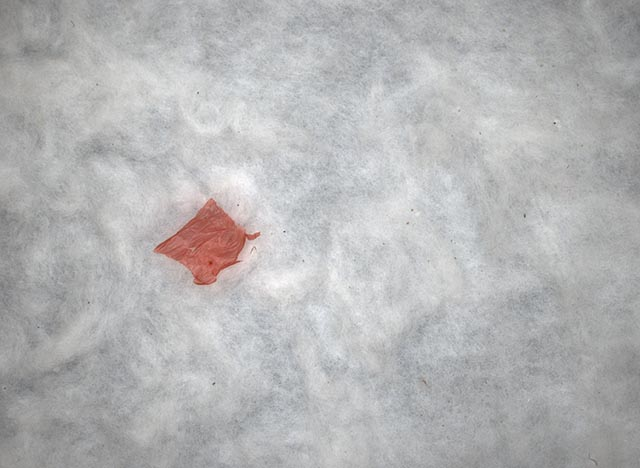plastic film: (151, 197, 262, 287)
